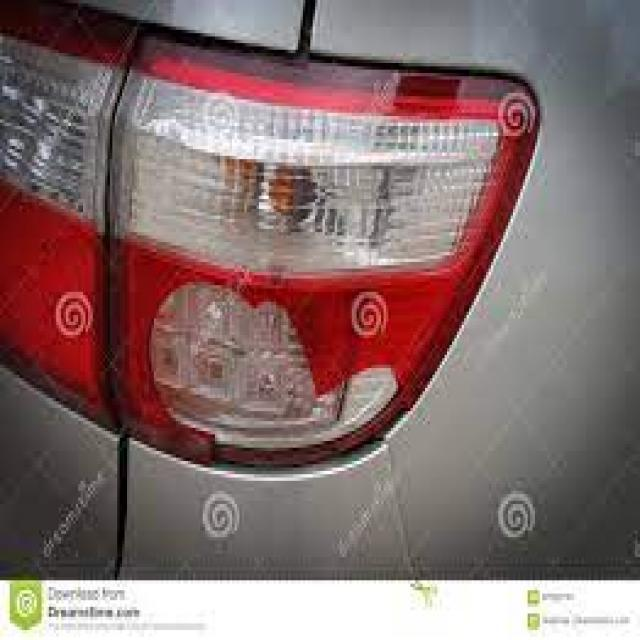damaged-tail-light: (0, 0, 545, 498)
